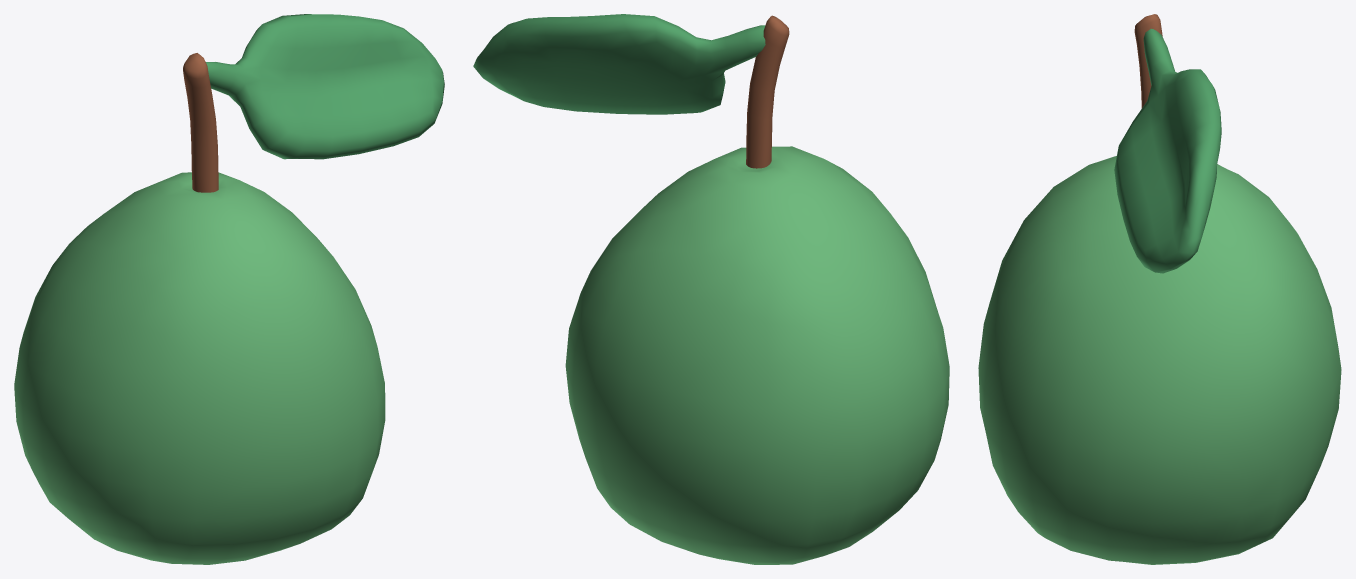
File: Guava_02.dae
3 renders of one model, left to right at view 1: azimuth 30°, elevation 25°; view 2: azimuth 150°, elevation 25°; view 3: azimuth 270°, elevation 25°, orthographic. The views are drawn at different scales.
Visible parts, largest first — view 1: Guava_02_LOD0; view 2: Guava_02_LOD0; view 3: Guava_02_LOD0.
Boxes of the visible parts, box(x1,y1,x2,y2) form: Guava_02_LOD0: box(14, 14, 444, 564); Guava_02_LOD0: box(473, 14, 949, 564); Guava_02_LOD0: box(978, 14, 1341, 564).
Size of what is drawn, in the model's own units: 4.89 by 3.51 by 5.57.
